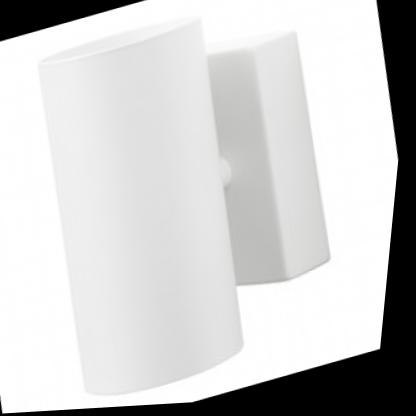Lamp: (0, 0, 385, 415)
